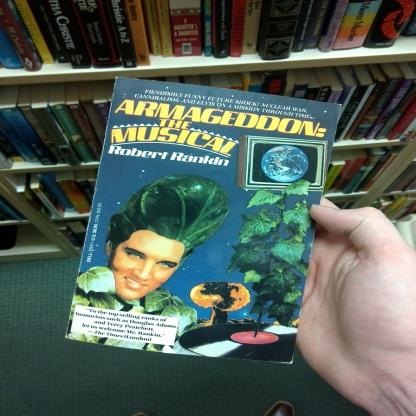book: (61, 77, 342, 362), (0, 58, 416, 169), (1, 144, 402, 222), (0, 0, 416, 71), (320, 157, 416, 224), (54, 215, 91, 251)
